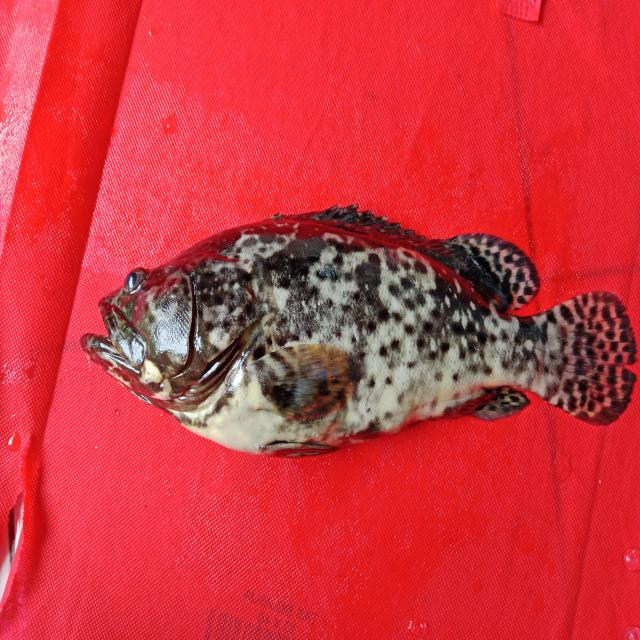ikan: (69, 187, 631, 468)
